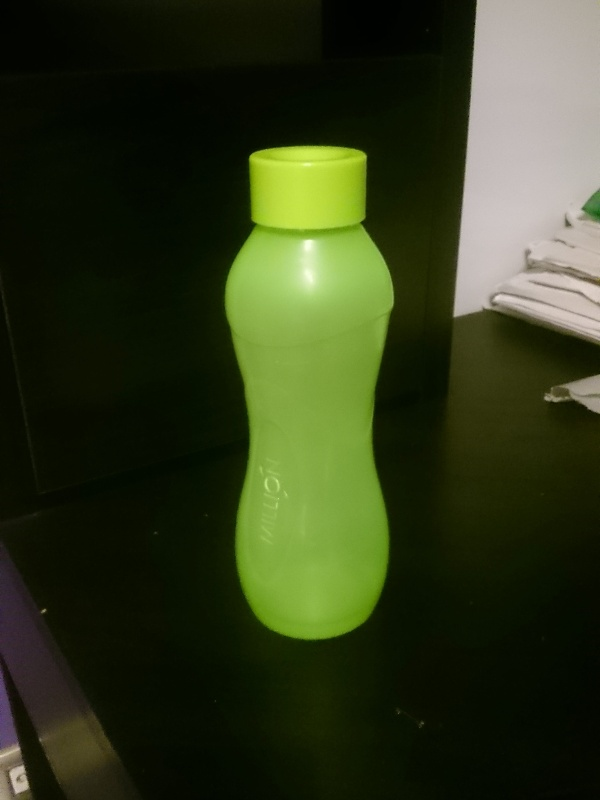my bottle: (224, 145, 394, 640)
